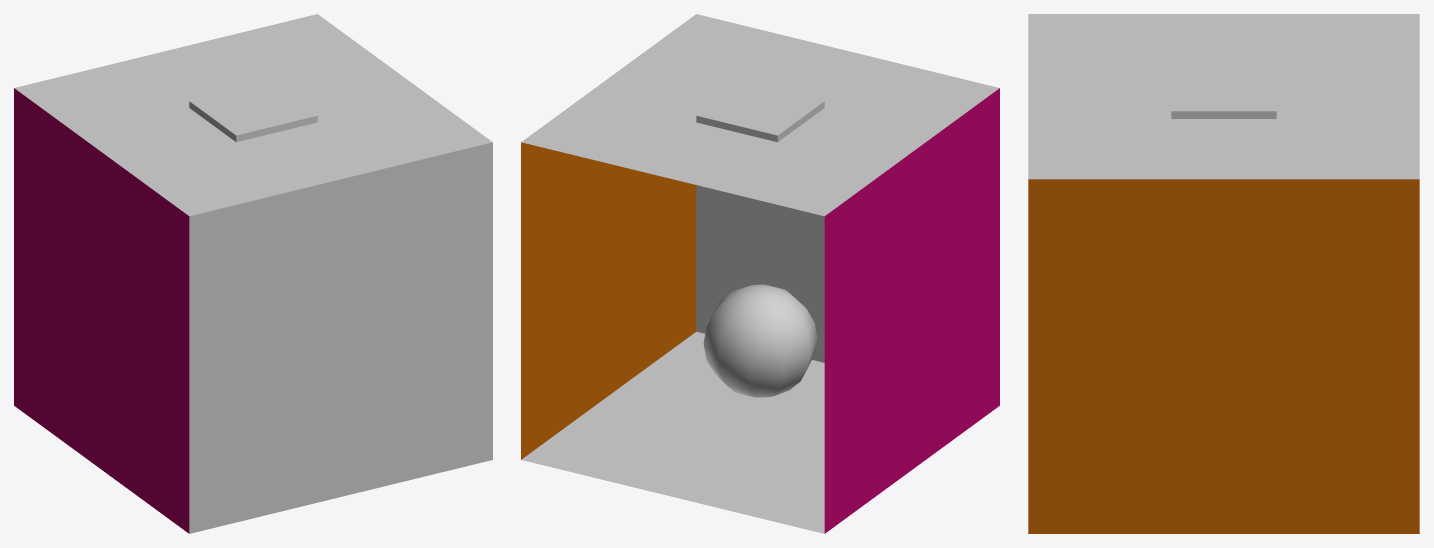
The model's file is cornel.obj.
The picture shows the model from 3 angles, left to right: view 1: azimuth 30°, elevation 25°; view 2: azimuth 150°, elevation 25°; view 3: azimuth 270°, elevation 25°; orthographic projection. The views are drawn at different scales.
Parts seen in each view (by area): view 1: Plane.005, Plane.001, Plane.003, Cube; view 2: Plane.001, Plane.003, Plane.002, Plane, Plane.005, Sphere, Cube; view 3: Plane.002, Plane.003, Cube.
Part boxes in pixels (left/top/right/bottom): Plane.005: left=189, top=142, right=492, bottom=533; Plane.001: left=14, top=88, right=189, bottom=533; Plane.003: left=14, top=14, right=492, bottom=216; Cube: left=189, top=81, right=317, bottom=142; Plane.001: left=824, top=88, right=999, bottom=533; Plane.003: left=521, top=14, right=999, bottom=216; Plane.002: left=521, top=142, right=696, bottom=459; Plane: left=521, top=331, right=824, bottom=533; Plane.005: left=696, top=185, right=824, bottom=362; Sphere: left=703, top=284, right=817, bottom=397; Cube: left=696, top=81, right=824, bottom=142; Plane.002: left=1028, top=179, right=1419, bottom=533; Plane.003: left=1028, top=14, right=1419, bottom=179; Cube: left=1171, top=67, right=1276, bottom=118.
Size of the model in its own units: 2 by 2.04 by 2.
